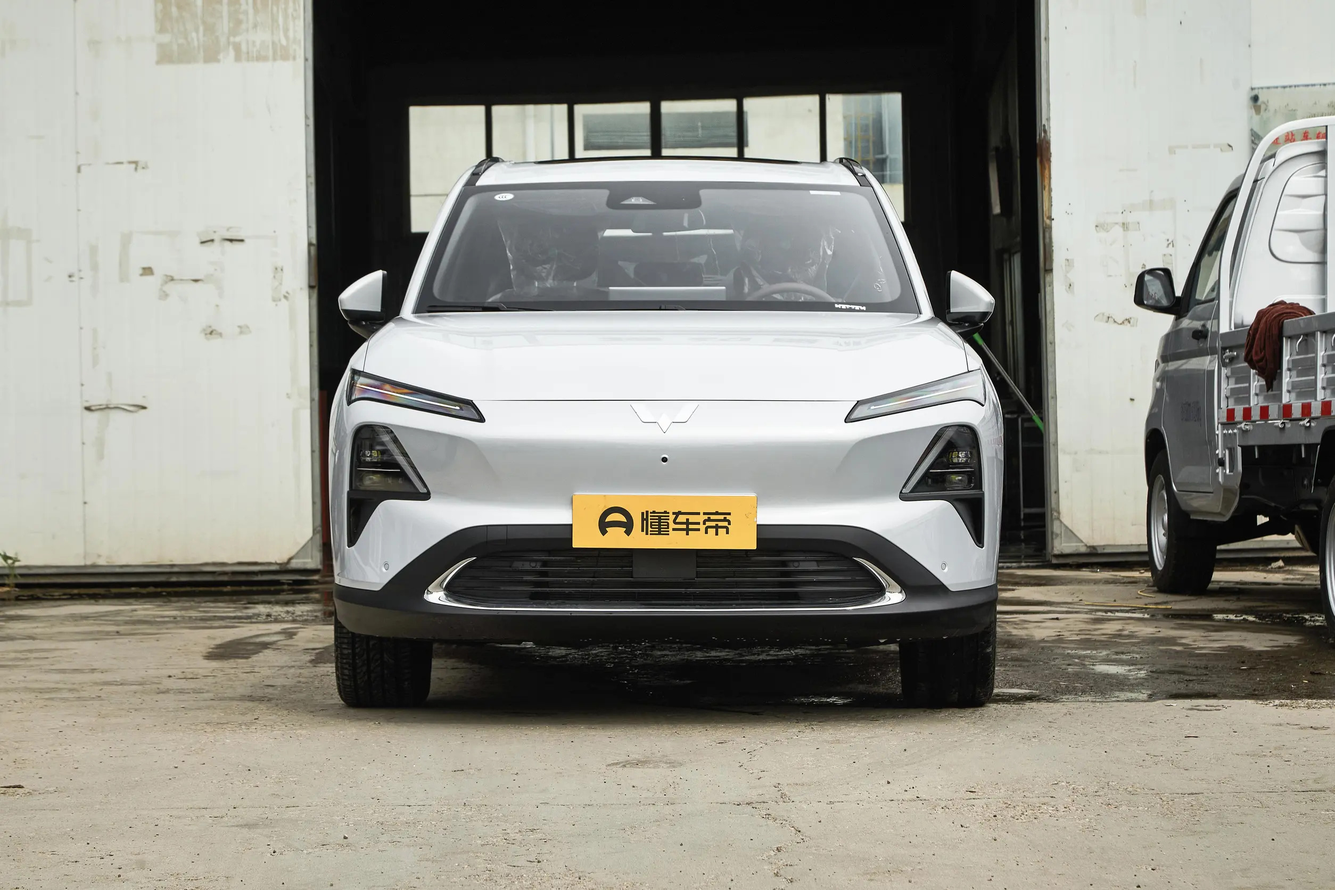SGMW: (631, 403, 698, 432)
